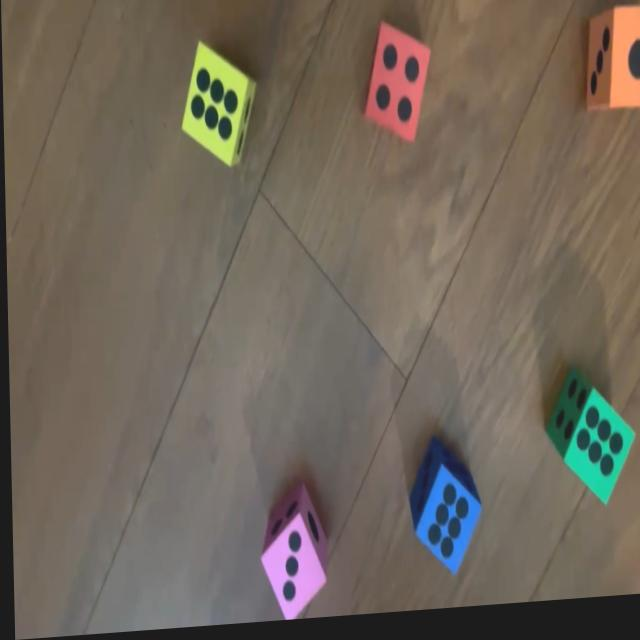blue_block: (406, 444, 479, 588)
red_block: (360, 27, 431, 150)
